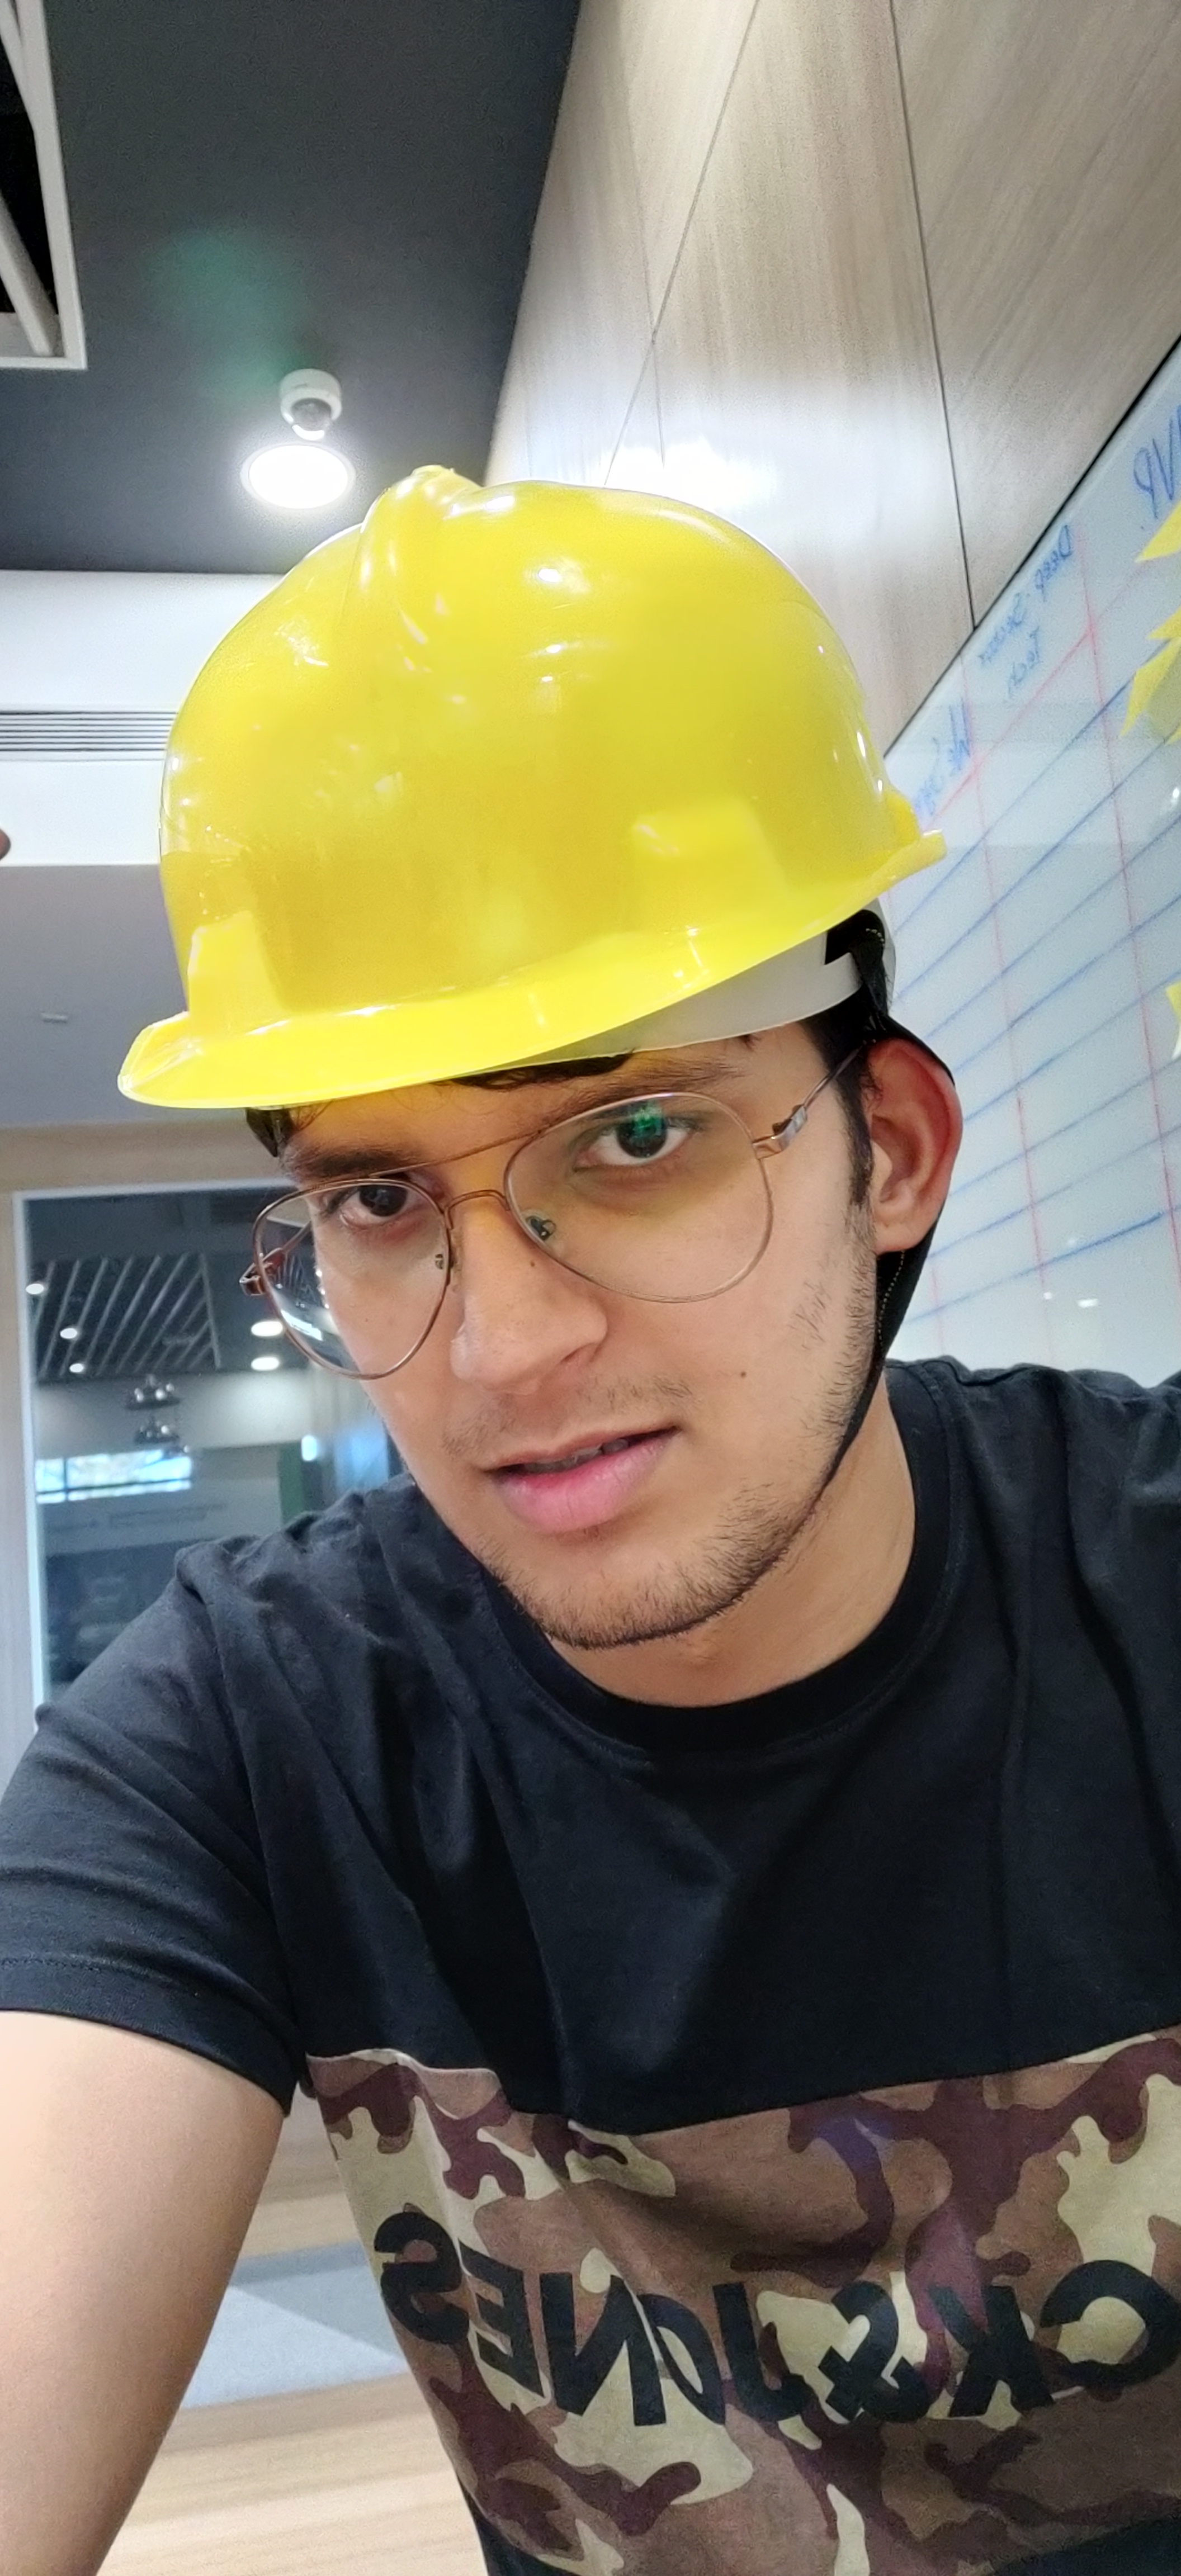Person_wearing_helmet: (121, 396, 1003, 1453)
